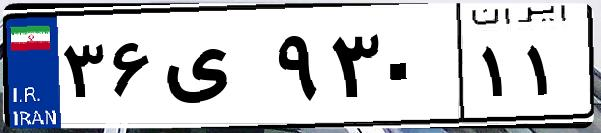0: (385, 28, 445, 110)
1: (475, 38, 525, 113), (525, 38, 570, 115)
3: (330, 28, 385, 110), (57, 26, 110, 100)
6: (110, 28, 158, 98)
9: (270, 28, 330, 110)
ی: (158, 20, 270, 120)
